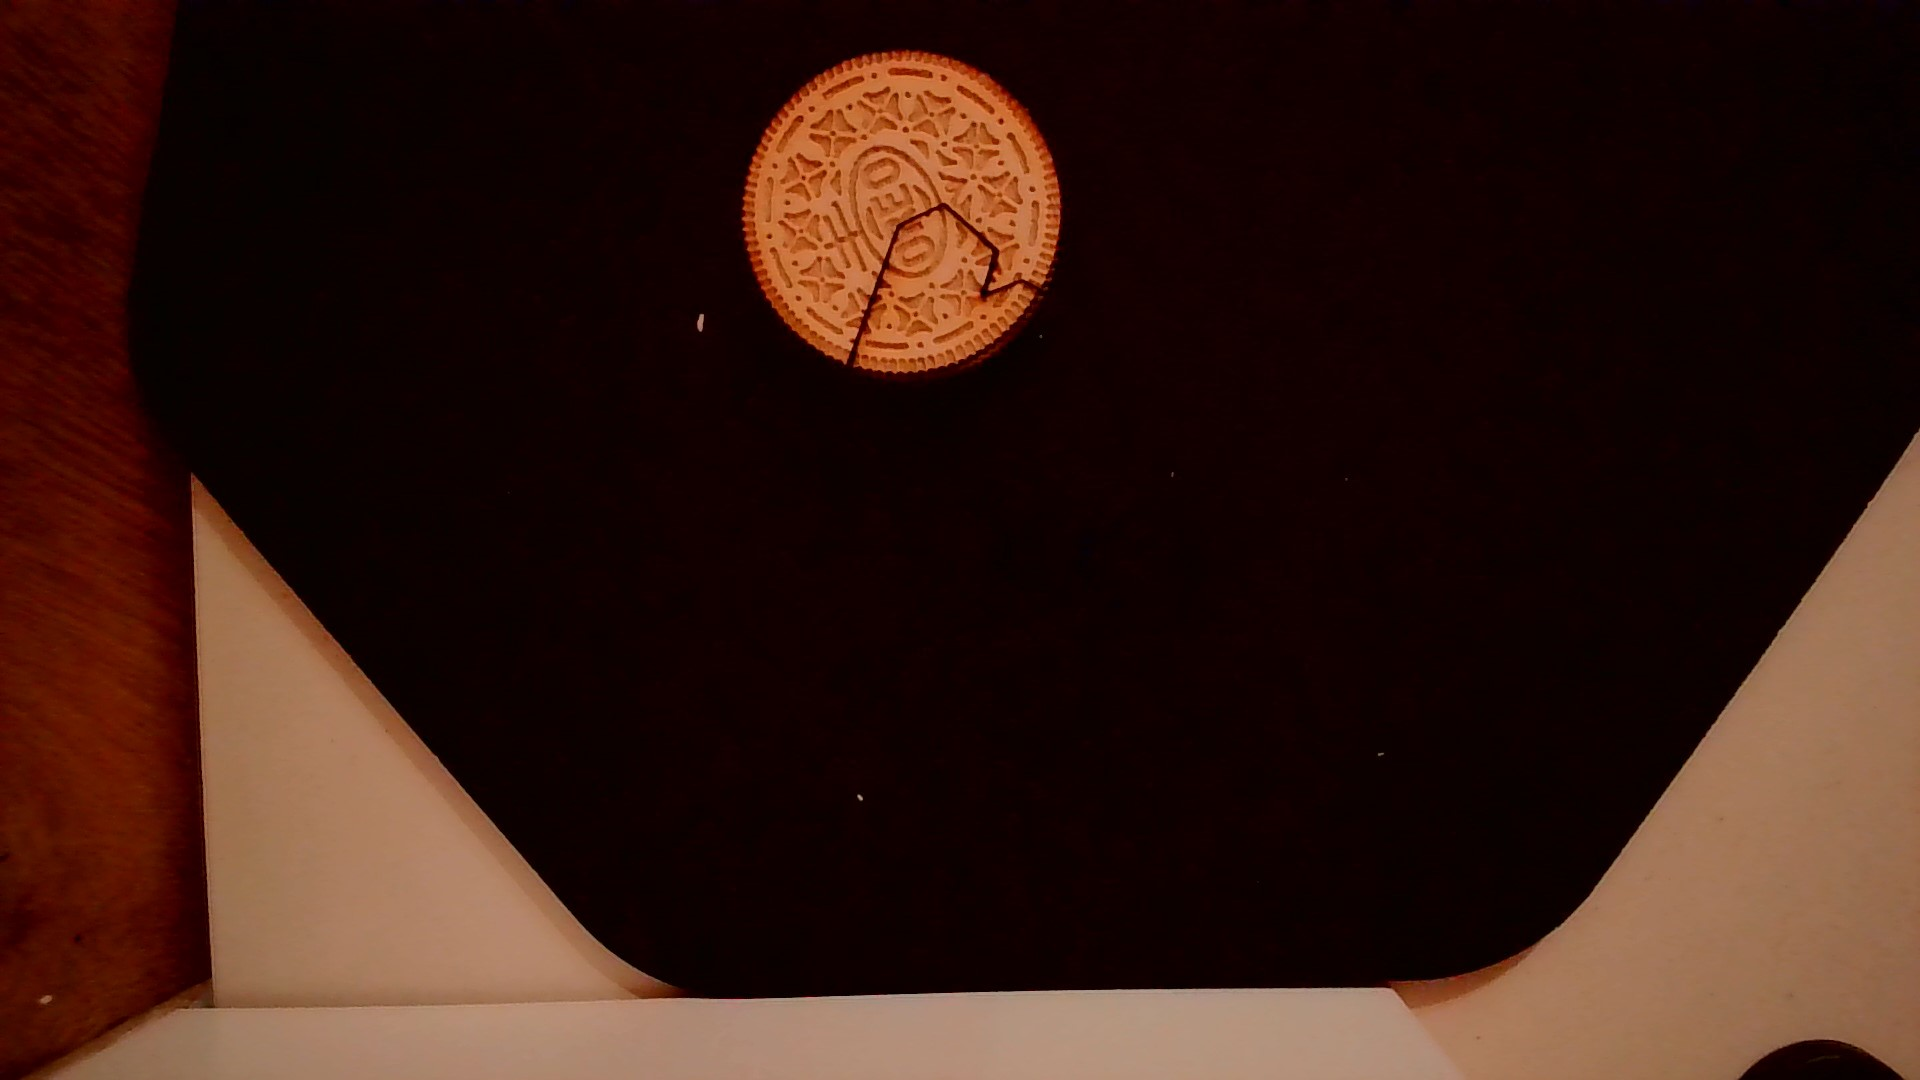Fissure: (841, 194, 1046, 386)
Oréo: (735, 45, 1069, 386)
